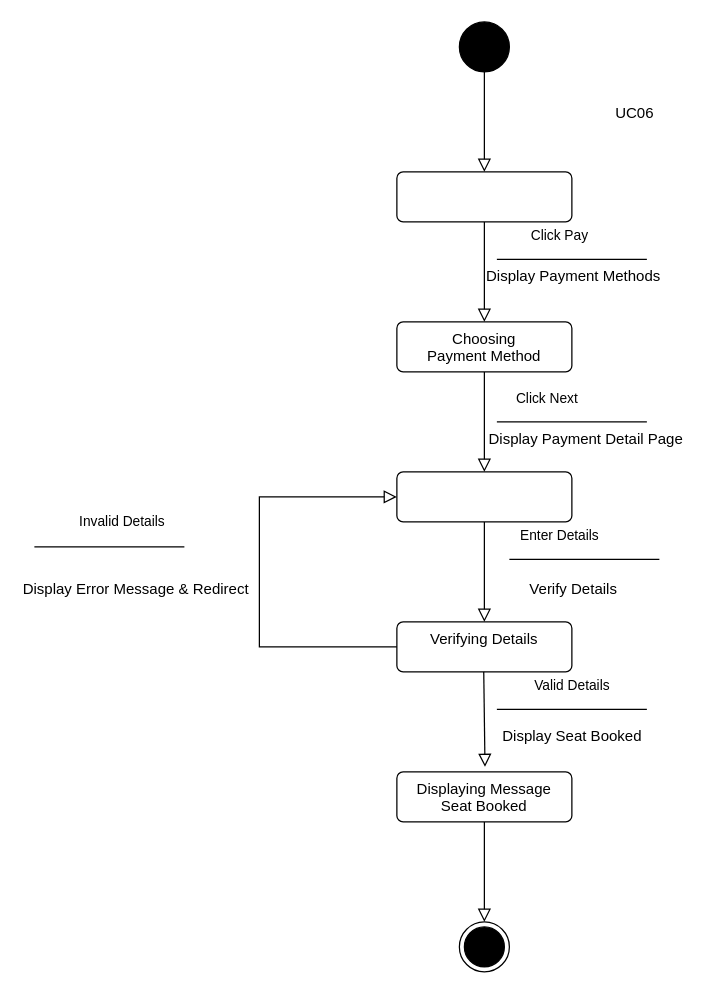
Image size: 704x994. Some labels were removed from this diagram. Here are the shapes that lost their labels. From the top down, the centre of each, then its label:
At [484,196]: "Displaying Payment Page".
At [484,496]: "Displaying Payment Detail Page".
